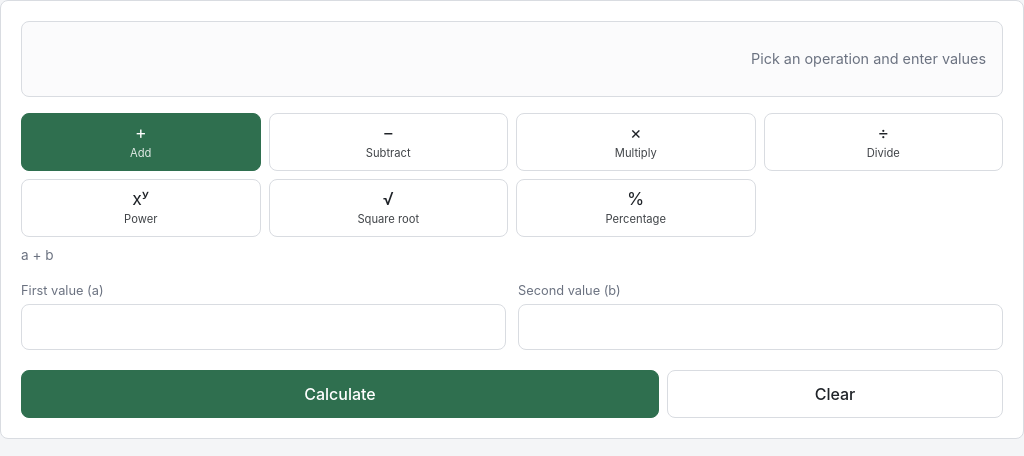
Calculator › shows the error message returned by the API
Type "10" into the field labelled "First value (a)" at (264, 327), box [21,304,506,350]
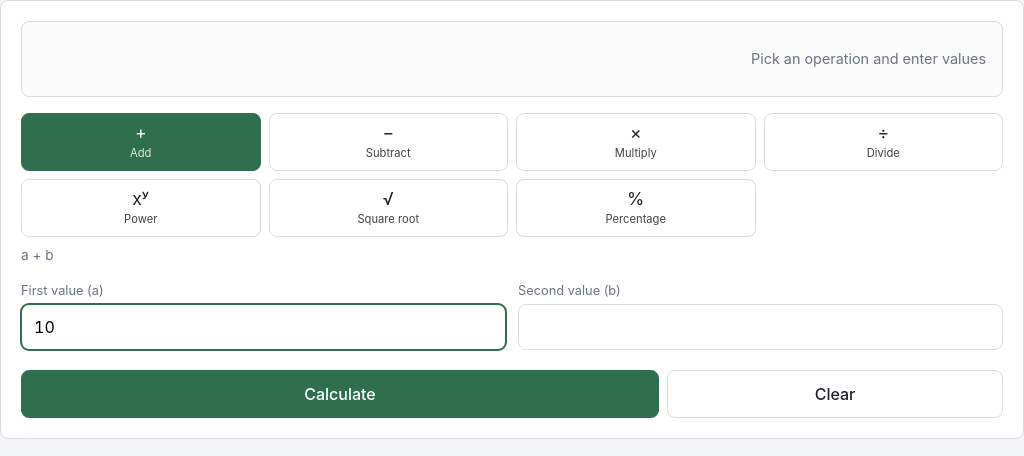
Type "0" into the field labelled "Second value (b)" at (760, 327), box [518,304,1003,350]
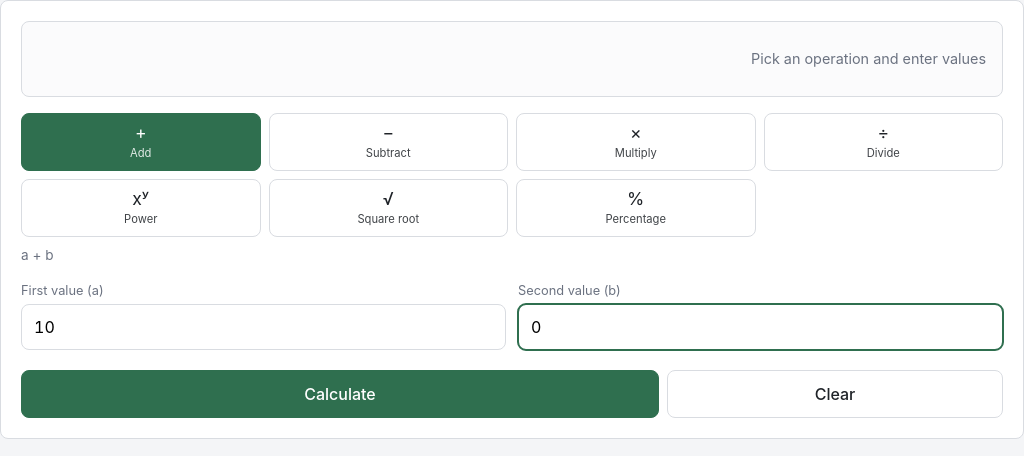
Click the button "÷ Divide" at (883, 142), box [764,113,1003,171]
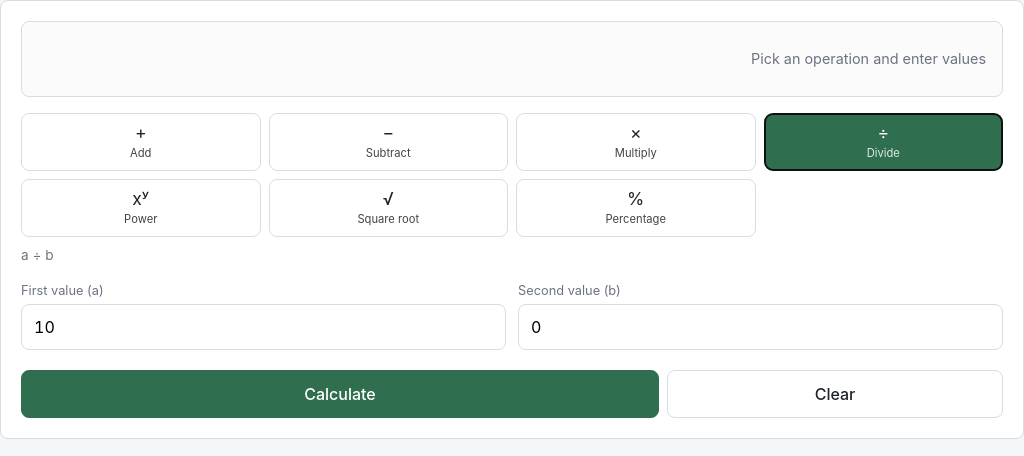
Click the button "Calculate" at (340, 394), box [21,370,659,418]
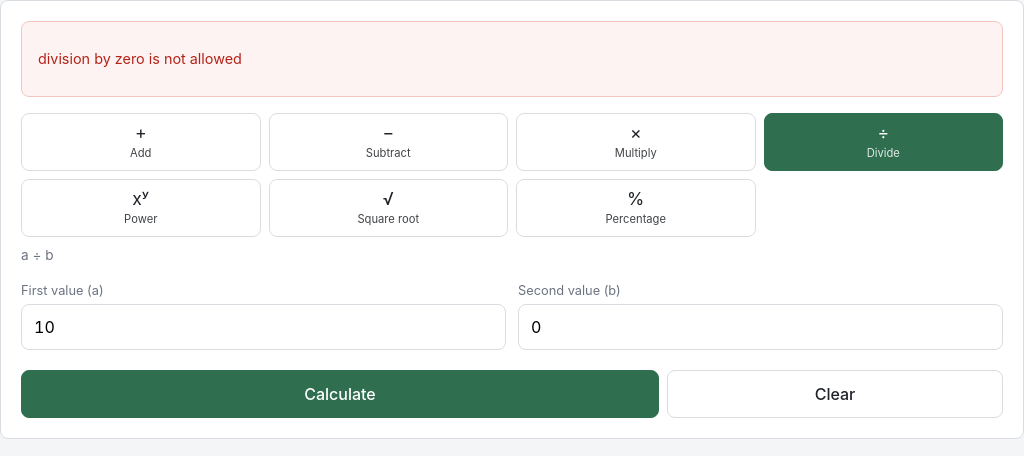
Check: the message reads "division by zero is not allowed", box [38,50,242,67]
